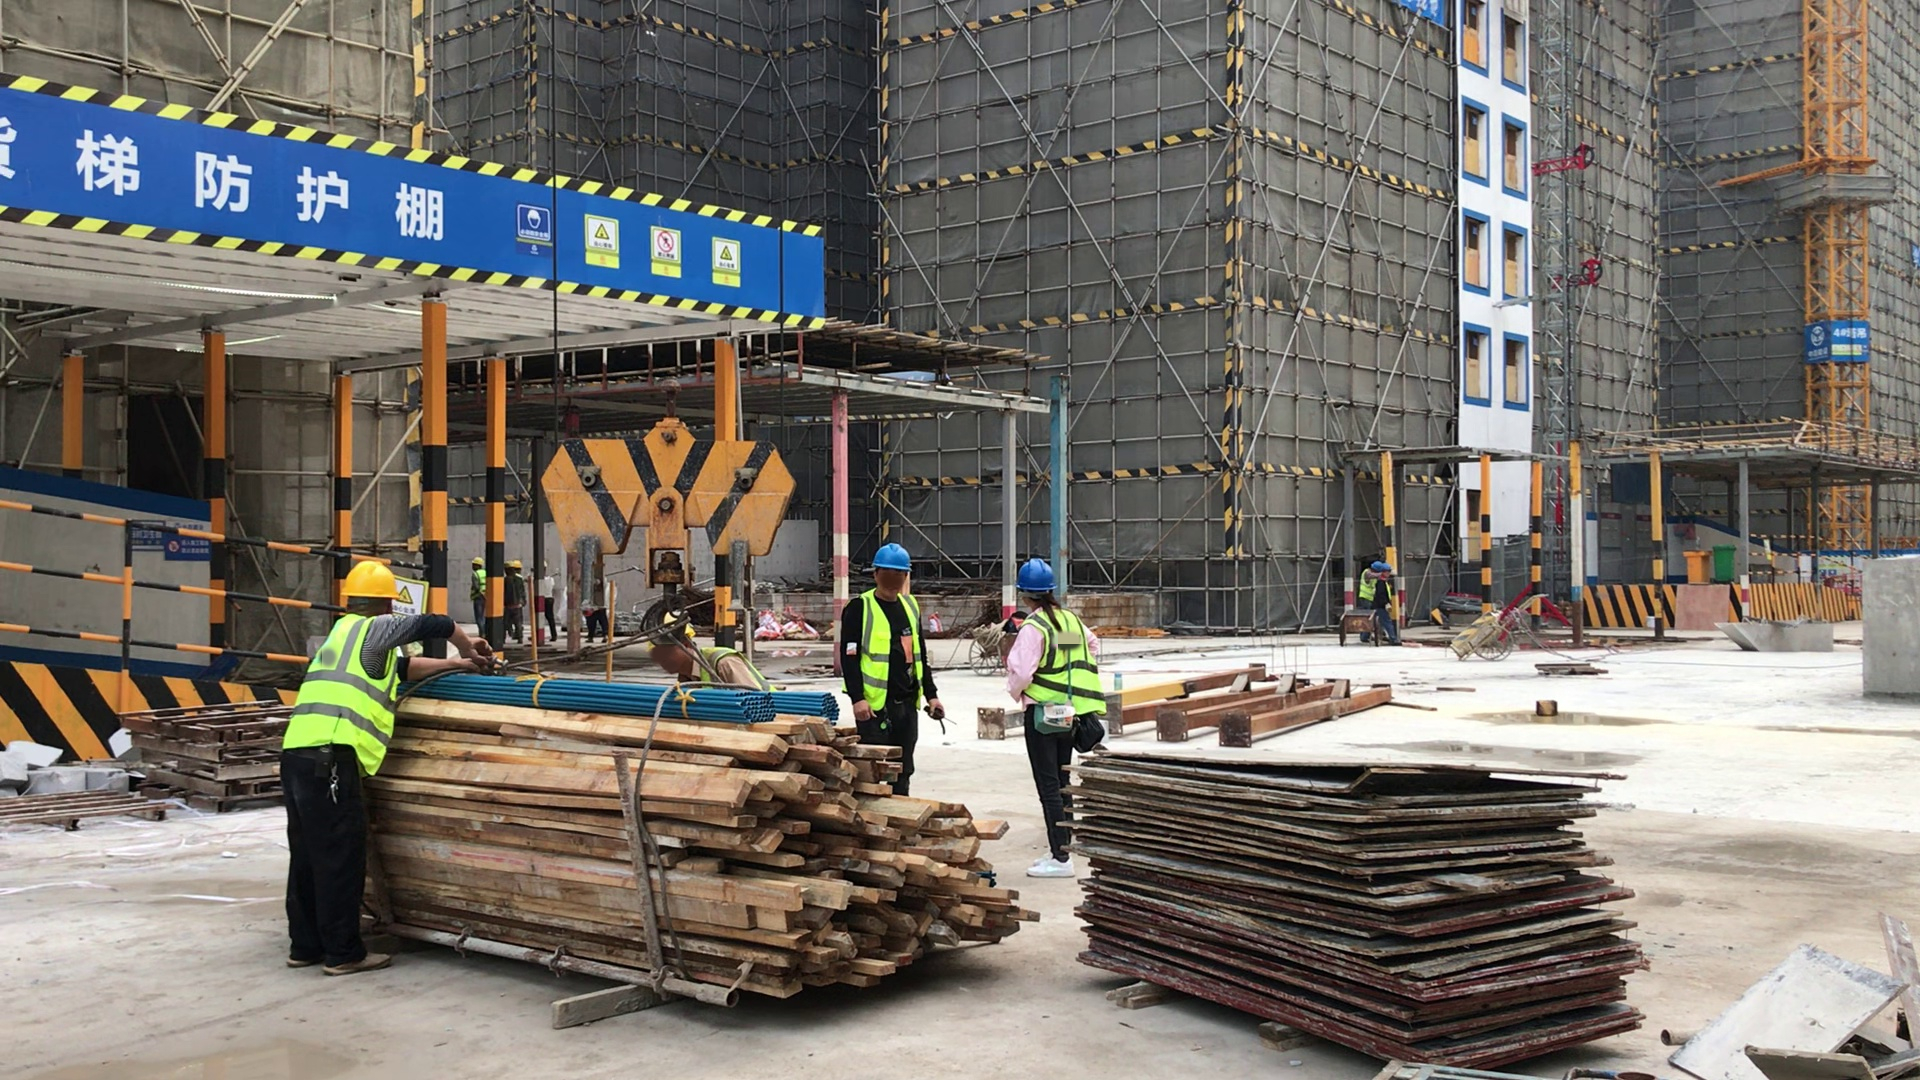helmet: (336, 559, 402, 604), (1013, 555, 1059, 590), (871, 544, 914, 573), (503, 560, 525, 570), (1370, 561, 1383, 572), (469, 555, 484, 566), (1378, 562, 1392, 572)
person: (269, 569, 422, 975), (1022, 553, 1103, 874), (840, 549, 951, 756), (652, 630, 763, 687), (466, 553, 487, 633), (505, 561, 525, 639), (1376, 566, 1395, 639), (541, 563, 558, 643), (1361, 560, 1381, 608)
vest: (278, 617, 402, 772), (842, 590, 939, 707), (1026, 606, 1106, 730), (695, 641, 762, 688), (470, 567, 487, 600), (1360, 571, 1376, 601)
